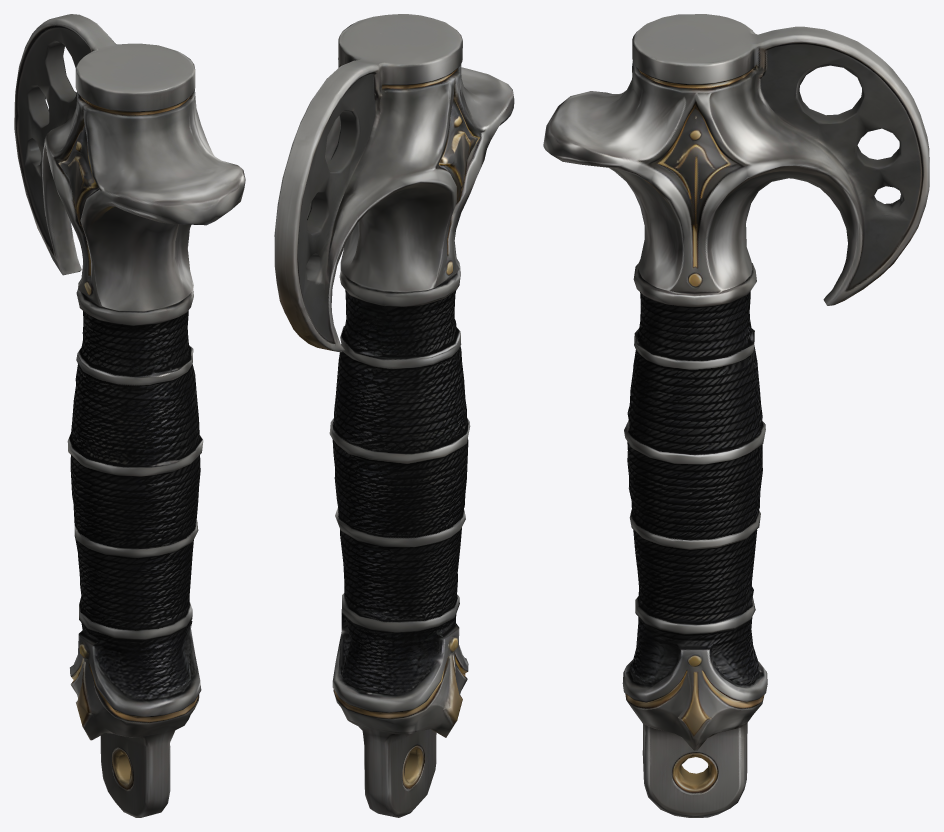
Rendered from hilt_nightward.glb.
3 renders of one model, left to right at view 1: azimuth 30°, elevation 25°; view 2: azimuth 150°, elevation 25°; view 3: azimuth 270°, elevation 25°, orthographic. The views are drawn at different scales.
Parts seen in each view (by area): view 1: tripo_node_f4a48c8b-9051-4b14-aa9d-a05dcf85f5b7; view 2: tripo_node_f4a48c8b-9051-4b14-aa9d-a05dcf85f5b7; view 3: tripo_node_f4a48c8b-9051-4b14-aa9d-a05dcf85f5b7.
Part boxes in pixels (bbox=[...]): tripo_node_f4a48c8b-9051-4b14-aa9d-a05dcf85f5b7: bbox=[14, 14, 245, 817]; tripo_node_f4a48c8b-9051-4b14-aa9d-a05dcf85f5b7: bbox=[274, 14, 514, 817]; tripo_node_f4a48c8b-9051-4b14-aa9d-a05dcf85f5b7: bbox=[543, 14, 929, 817].
Bounding box in the file's own units: 0.1785 × 1 × 0.4471.
Materials: 1 (1 with a texture image).
